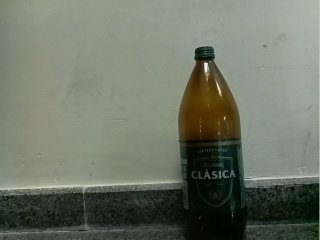pote cristal: (178, 46, 246, 234)
